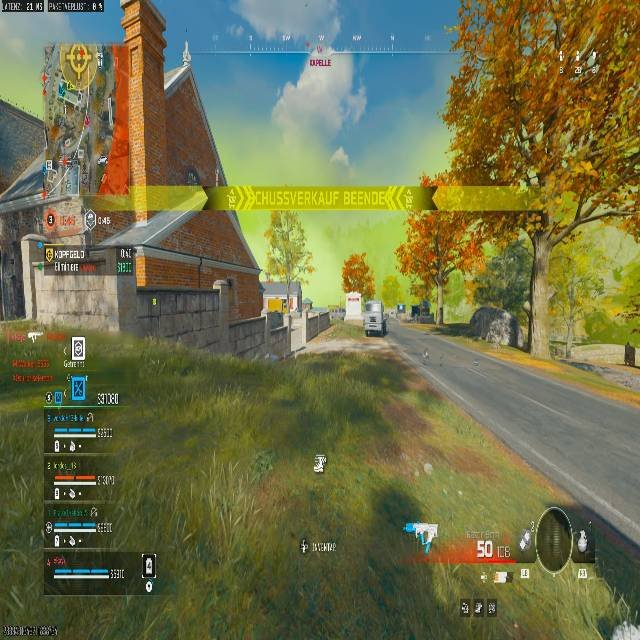player: (341, 252, 373, 303)
